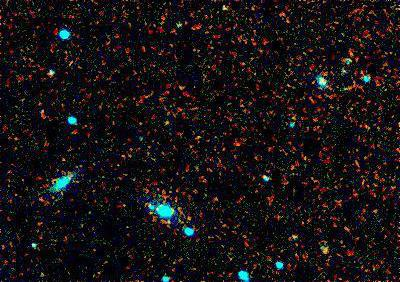star: (154, 205, 184, 235)
